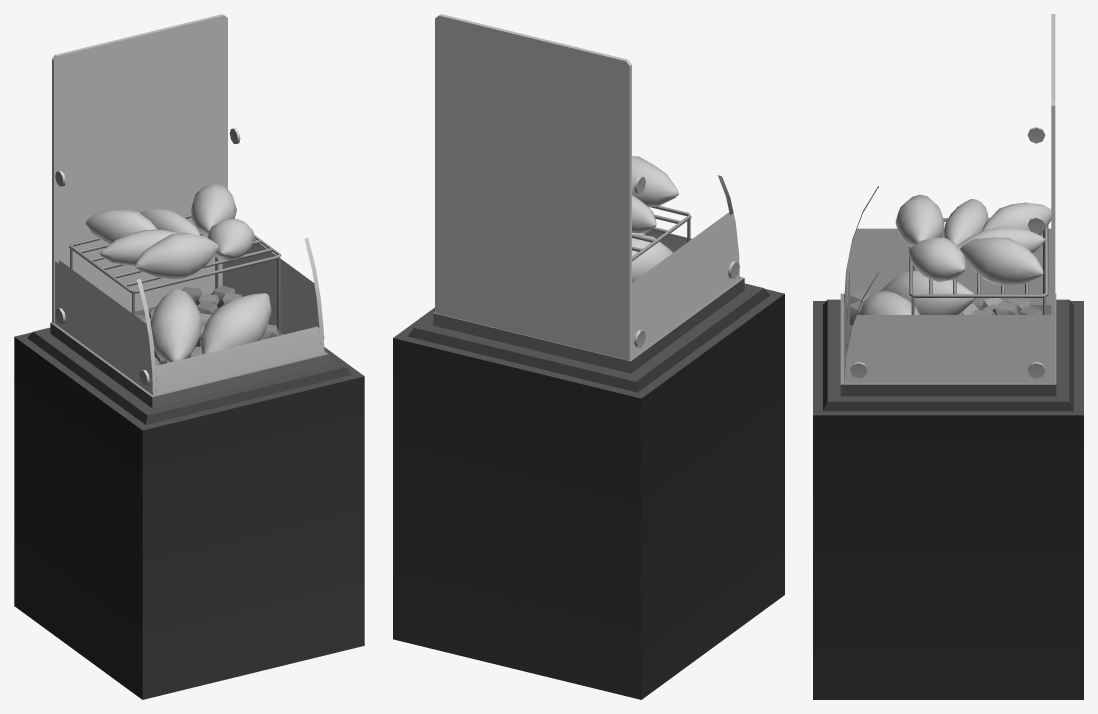
File: HG_CU_Store_lack_D.FBX
3 views of the same model, side by side, from view 1: azimuth 30°, elevation 25°; view 2: azimuth 150°, elevation 25°; view 3: azimuth 270°, elevation 25° (orthographic). The views are drawn at different scales.
Visible parts, largest first — view 1: HG_CU_Store_lack_D, HG_CU_Store_lack_D_prop, HG_CU_Store_lack_D_al; view 2: HG_CU_Store_lack_D, HG_CU_Store_lack_D_prop, HG_CU_Store_lack_D_al; view 3: HG_CU_Store_lack_D, HG_CU_Store_lack_D_al, HG_CU_Store_lack_D_prop.
Part boxes in pixels (box(x1,y1,x2,y2)): HG_CU_Store_lack_D: box(14, 128, 364, 699); HG_CU_Store_lack_D_prop: box(52, 14, 271, 362); HG_CU_Store_lack_D_al: box(55, 238, 324, 395); HG_CU_Store_lack_D: box(393, 176, 784, 699); HG_CU_Store_lack_D_prop: box(435, 14, 679, 360); HG_CU_Store_lack_D_al: box(632, 175, 739, 357); HG_CU_Store_lack_D: box(813, 126, 1083, 699); HG_CU_Store_lack_D_al: box(844, 186, 1051, 383); HG_CU_Store_lack_D_prop: box(859, 14, 1055, 383).
Bounding box in the file's own units: 24.55 × 24.55 × 58.55.
